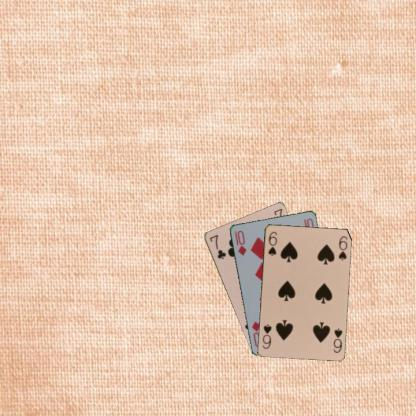10d: (232, 228, 247, 257)
6s: (331, 325, 343, 354), (266, 229, 278, 257)
7c: (207, 232, 227, 260)
